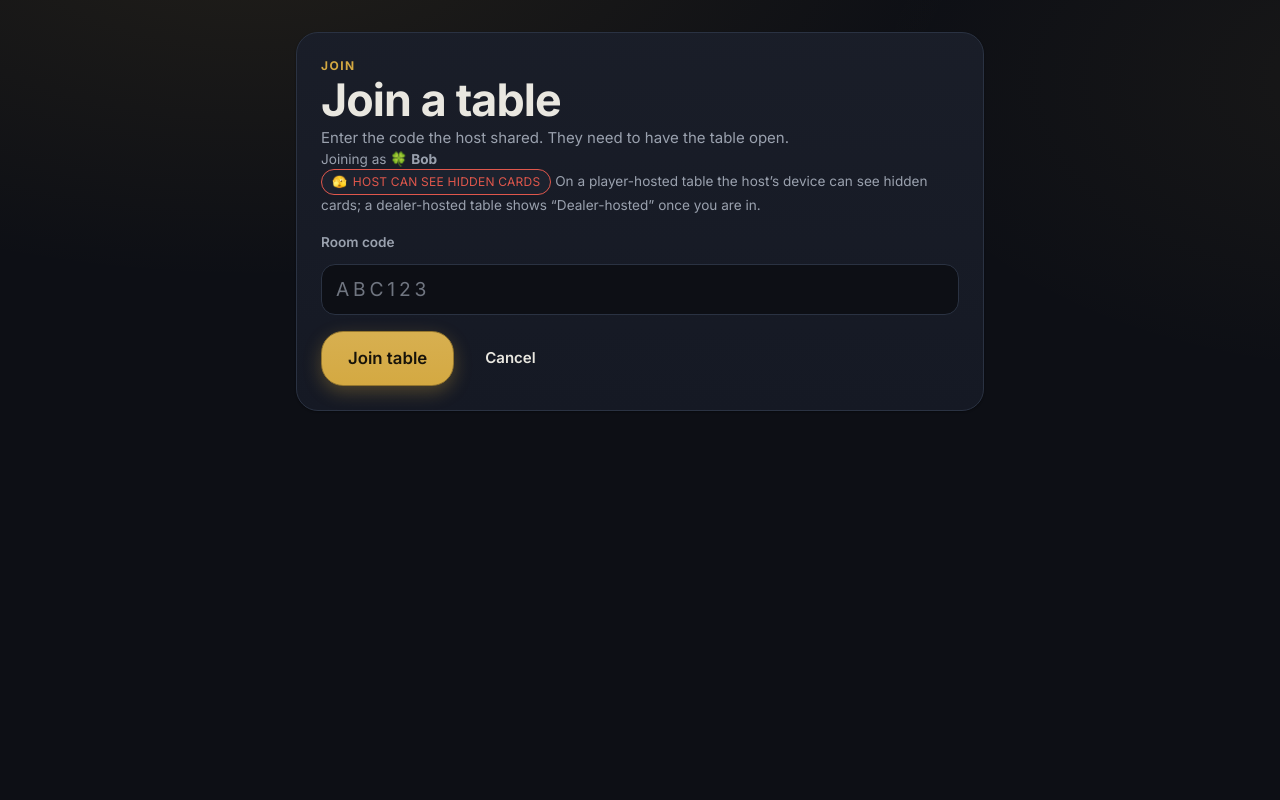
it: join screens disclose trust before joining › OFC: a player-hosted table means the host can see hidden cards; tapping shows why
Click the button with test id "trust-badge" at (436, 182), box x1=321 y1=169 x2=551 y2=195
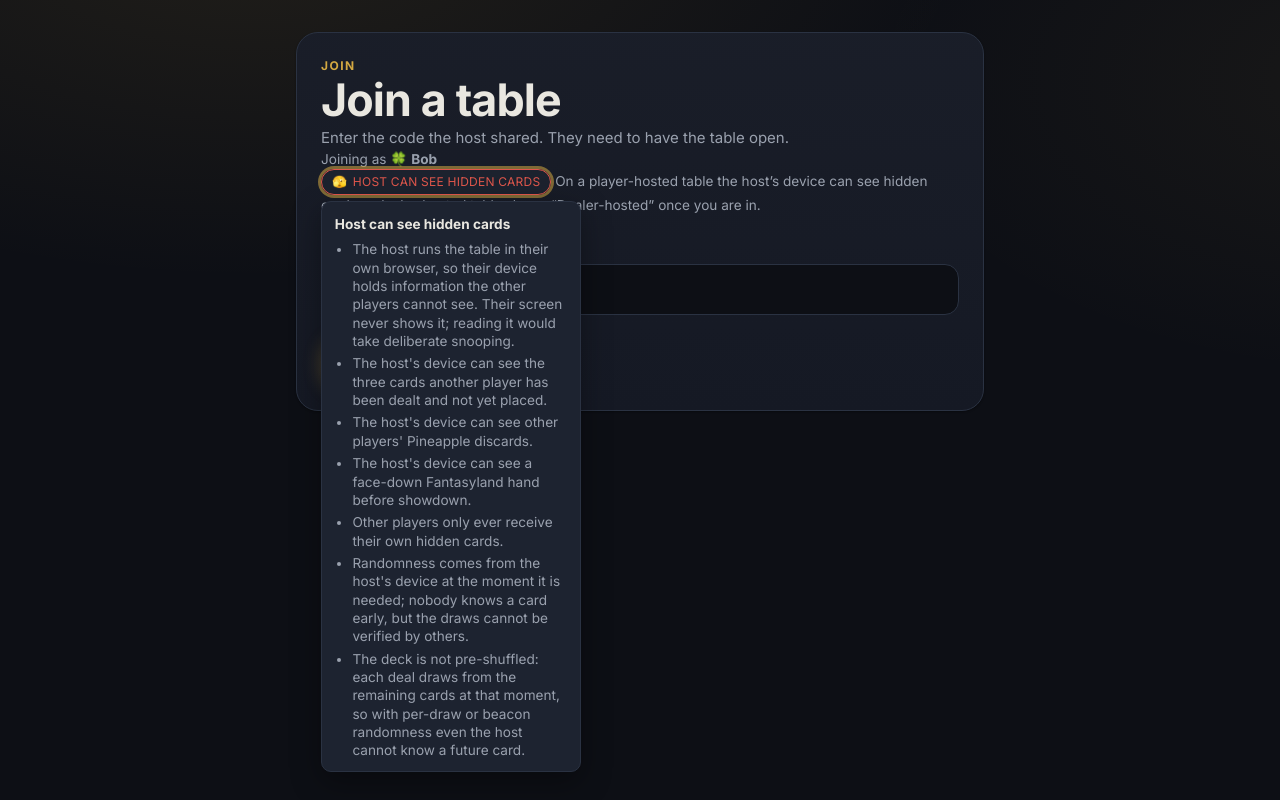
expect the dialog with test id "trust-details" shows "Pineapple discards": met, box x1=352 y1=414 x2=558 y2=449
